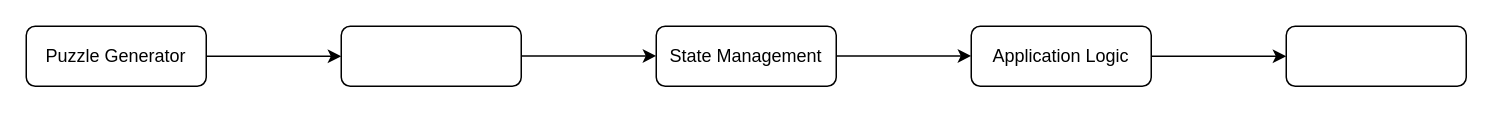
Some shapes in this 1493 by 113 pixel diagram are drawn without their labels. The box of each missing label's shape, as (x1, y1, x2, y2) in pixels:
Data Comparison: (1285, 25, 1466, 86)
Heuristic Function: (340, 25, 521, 86)
